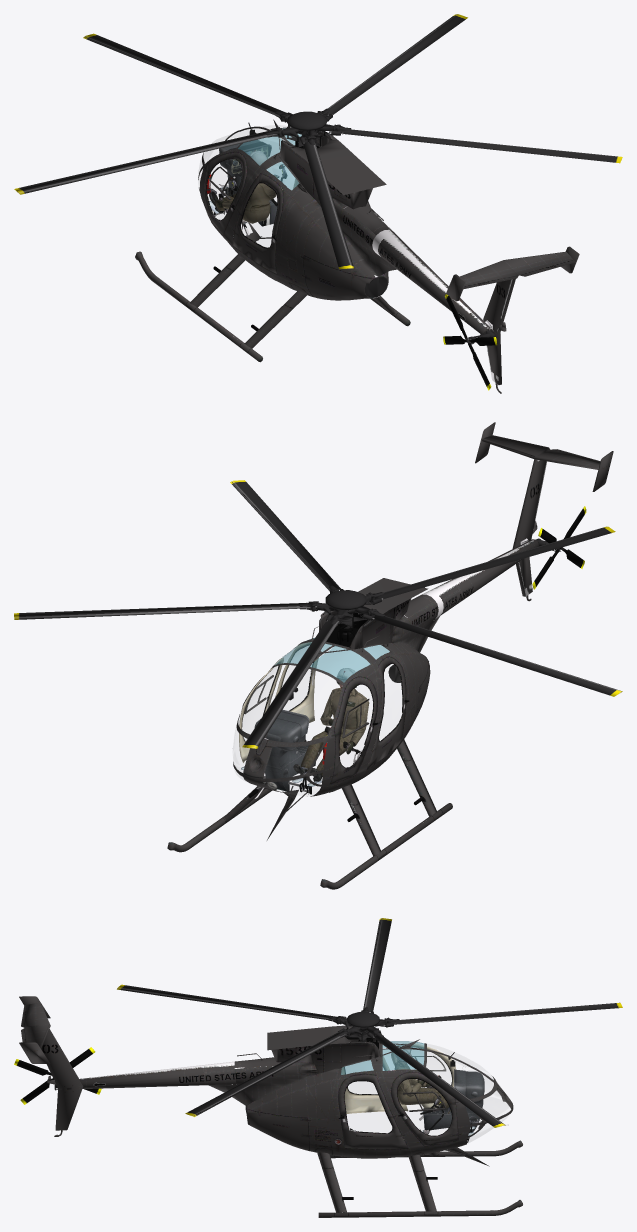
3 views of the same model, one above another, from view 1: azimuth 30°, elevation 25°; view 2: azimuth 150°, elevation 25°; view 3: azimuth 270°, elevation 25° (orthographic). The views are drawn at different scales.
Visible parts, largest first — view 1: ext_fuse1, rotor_main, ext_fuse1_doors, ext_skids, int_pilotR, glasss_grn, int_console, rotor_tail; view 2: ext_fuse1, rotor_main, ext_fuse1_doors, ext_skids, int_pilotR, int_console, glasss_grn, glass, rotor_tail; view 3: ext_fuse1, rotor_main, ext_fuse1_doors, ext_skids, glass, int_console, int_pilotR, glasss_grn, rotor_tail.
Part boxes in pixels (bbox=[...]): ext_fuse1: bbox=[198, 119, 579, 393]; rotor_main: bbox=[14, 14, 622, 269]; ext_fuse1_doors: bbox=[204, 152, 299, 273]; ext_skids: bbox=[135, 251, 410, 362]; int_pilotR: bbox=[209, 150, 277, 223]; glasss_grn: bbox=[238, 128, 301, 190]; int_console: bbox=[206, 139, 277, 226]; rotor_tail: bbox=[443, 294, 497, 390]; ext_fuse1: bbox=[233, 422, 613, 840]; rotor_main: bbox=[14, 480, 622, 748]; ext_fuse1_doors: bbox=[239, 642, 409, 783]; ext_skids: bbox=[167, 739, 452, 889]; int_pilotR: bbox=[293, 668, 369, 781]; int_console: bbox=[254, 709, 326, 791]; glasss_grn: bbox=[274, 638, 389, 682]; glass: bbox=[233, 665, 310, 781]; rotor_tail: bbox=[532, 506, 586, 589]; ext_fuse1: bbox=[19, 996, 513, 1166]; rotor_main: bbox=[117, 918, 622, 1127]; ext_fuse1_doors: bbox=[338, 1043, 458, 1149]; ext_skids: bbox=[317, 1129, 522, 1217]; glass: bbox=[348, 1044, 509, 1143]; int_console: bbox=[423, 1069, 484, 1132]; int_pilotR: bbox=[394, 1043, 449, 1108]; glasss_grn: bbox=[341, 1041, 424, 1074]; rotor_tail: bbox=[14, 1047, 101, 1104].
Bounding box in the file's own units: 7.48 × 2.89 × 9.2.
9 materials, 9 textured.
